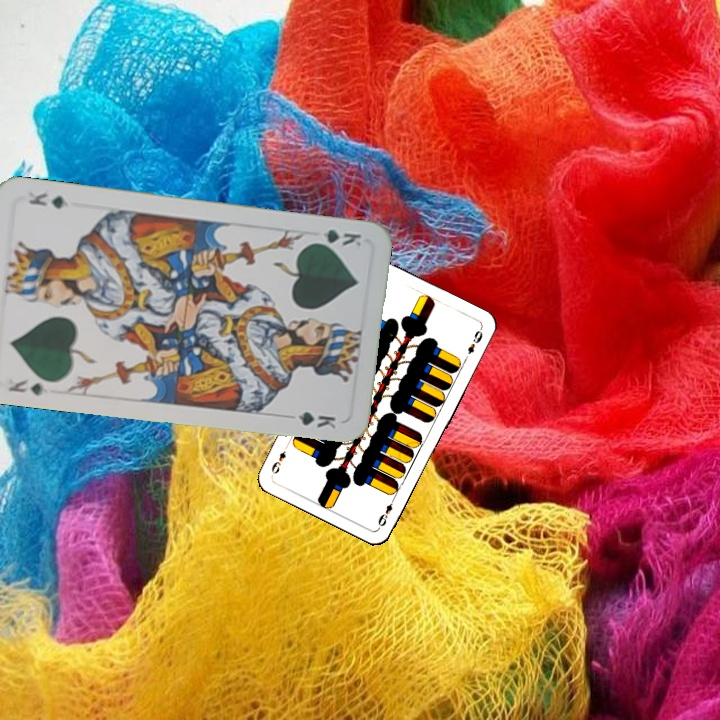E9: (374, 493, 398, 530)
GK: (306, 225, 364, 249), (4, 375, 51, 398)
